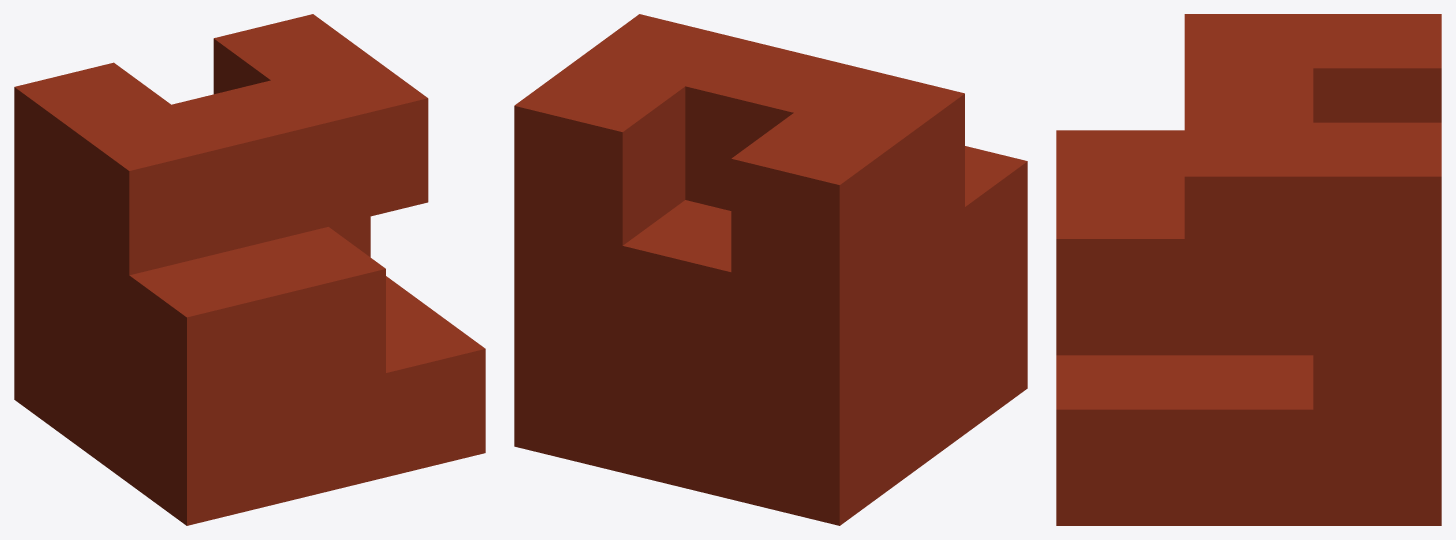
The model's file is obstacle.obj.
3 renders of one model, left to right at view 1: azimuth 30°, elevation 25°; view 2: azimuth 150°, elevation 25°; view 3: azimuth 270°, elevation 25°, orthographic. The views are drawn at different scales.
Visible parts, largest first — view 1: root; view 2: root; view 3: root.
Part boxes in pixels (x1,y1,x2,y2): root: (14,14,485,525); root: (514,14,1027,525); root: (1056,14,1441,525).
Size of the model in its own units: 0.3 by 0.3 by 0.3.
1 material, 1 textured.
